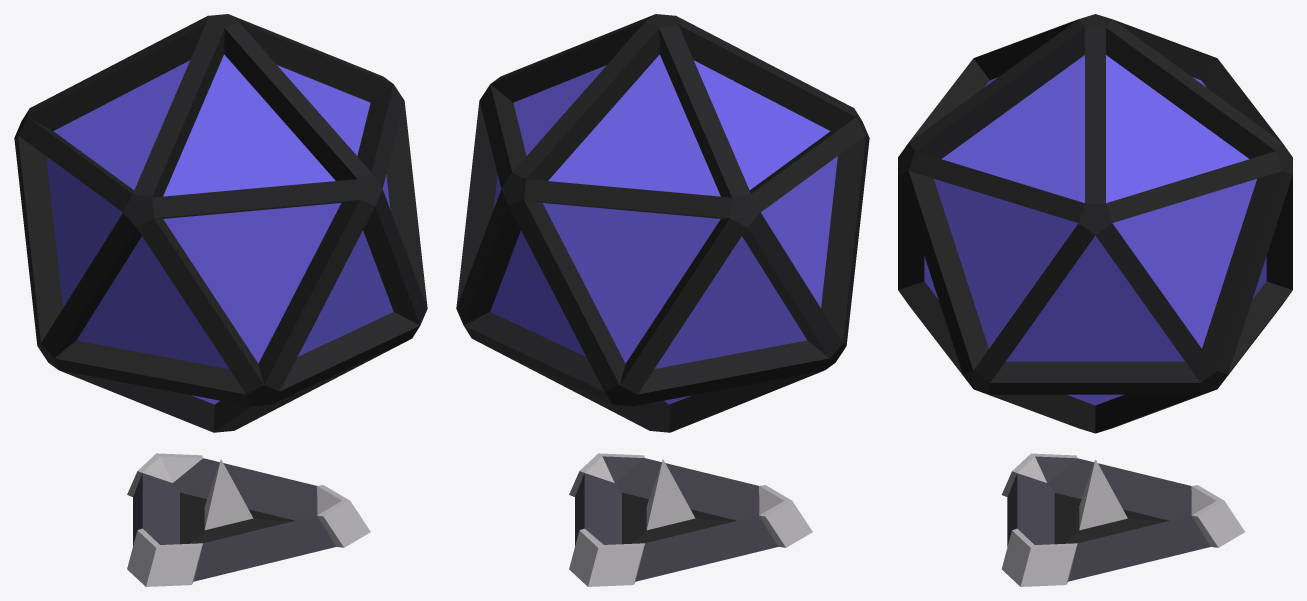
The model's file is lootbox.fbx.
The picture shows the model from 3 angles, left to right: view 1: azimuth 30°, elevation 25°; view 2: azimuth 150°, elevation 25°; view 3: azimuth 270°, elevation 25°; orthographic projection.
Parts seen in each view (by area): view 1: Icosphere, Cone; view 2: Icosphere, Cone; view 3: Icosphere, Cone.
Boxes of the visible parts, x1,y1,x2,y2 form: Icosphere: (14, 14, 427, 432); Cone: (127, 453, 370, 586); Icosphere: (456, 14, 869, 432); Cone: (569, 453, 812, 586); Icosphere: (898, 14, 1292, 433); Cone: (1001, 453, 1244, 586).
Bounding box in the file's own units: 0.9475 × 1.29 × 0.9011.
